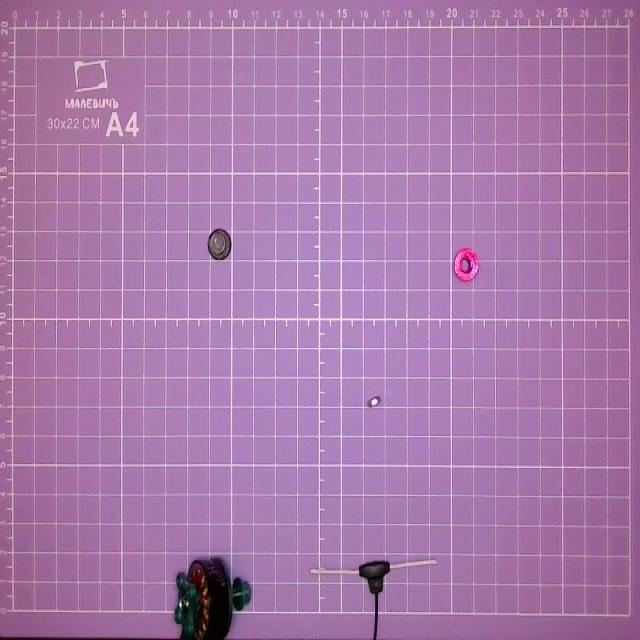antenna: (308, 557, 439, 640)
motor: (175, 553, 252, 640)
screw_M3: (366, 394, 382, 409)
screw_M5: (448, 239, 482, 286), (202, 225, 235, 261)
